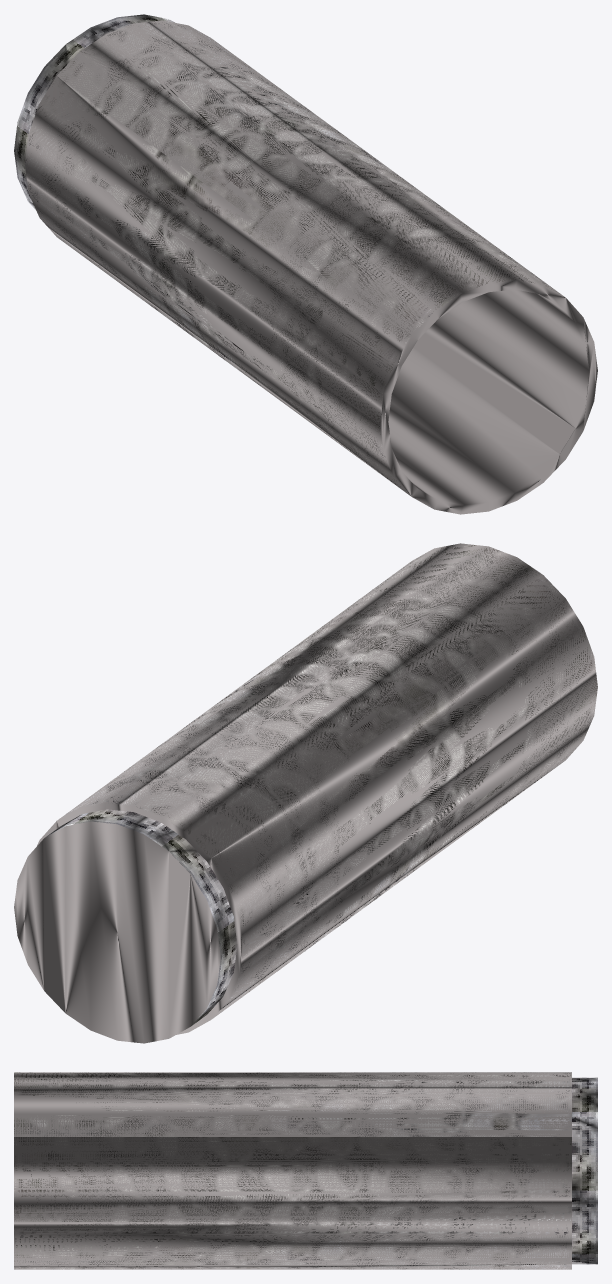
File: model_align.obj
3 renders of one model, top to bottom at view 1: azimuth 30°, elevation 25°; view 2: azimuth 150°, elevation 25°; view 3: azimuth 270°, elevation 25°, orthographic. The views are drawn at different scales.
Size of the model in its own units: 0.0813 by 0.0813 by 0.2395.
Materials: 3 (3 with a texture image).
